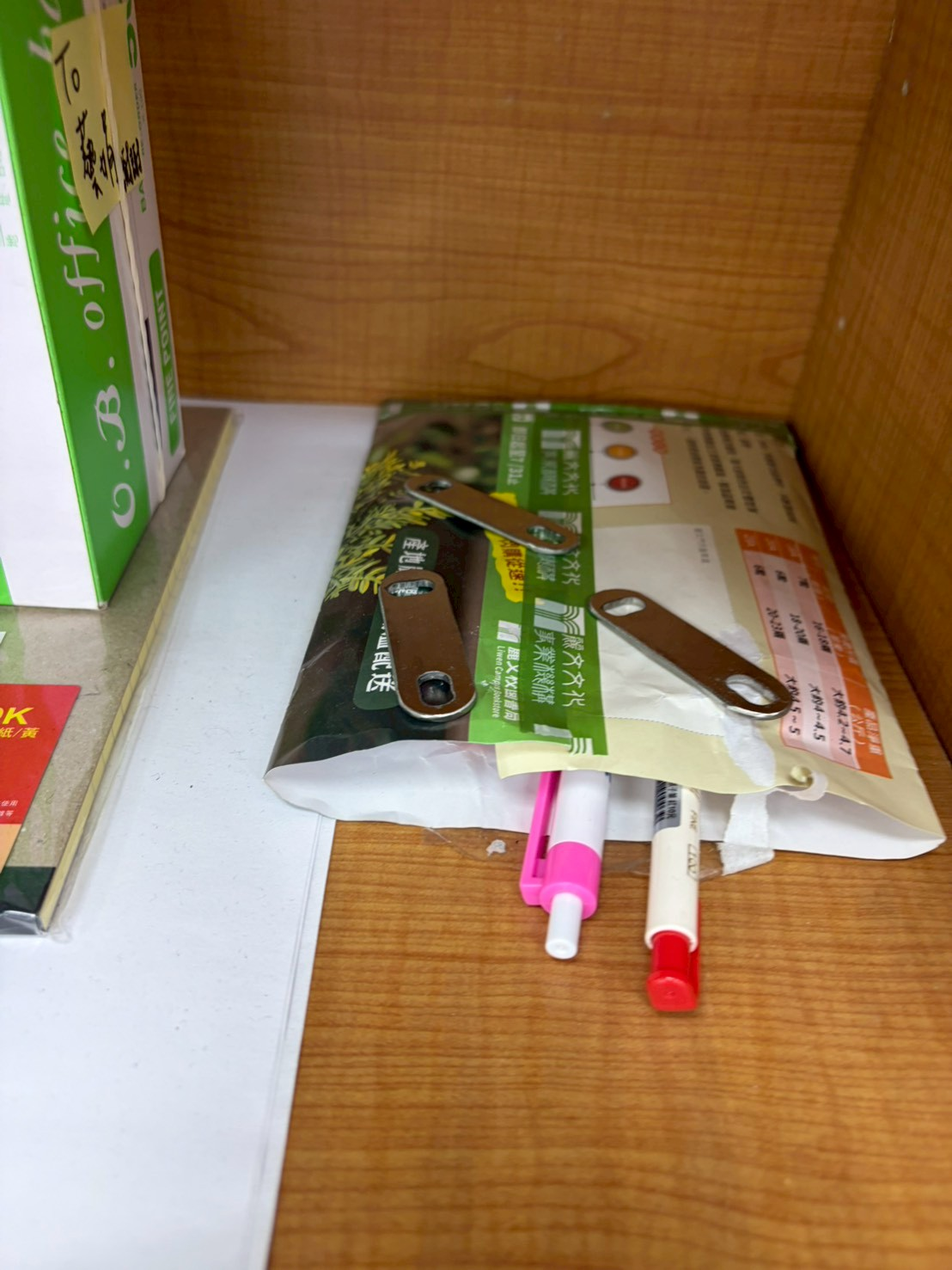Fe: (573, 572, 788, 732), (388, 450, 573, 556), (365, 569, 478, 724)
